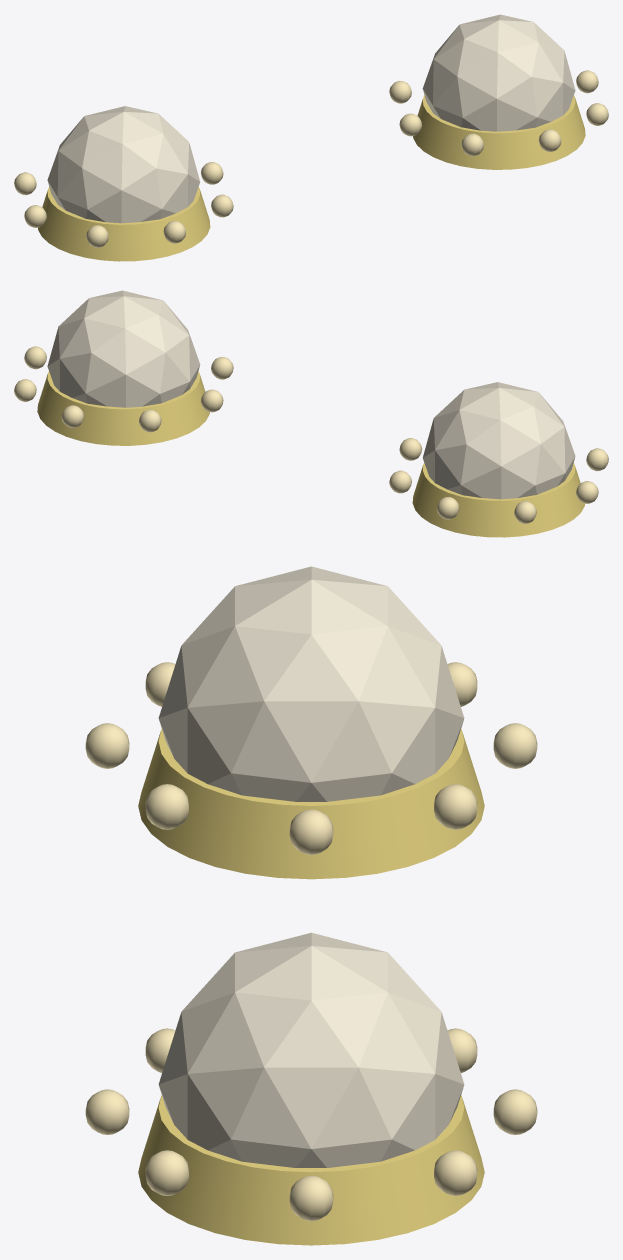
The model's file is noor-diamond-studs.glb.
3 renders of one model, top to bottom at view 1: azimuth 30°, elevation 25°; view 2: azimuth 150°, elevation 25°; view 3: azimuth 270°, elevation 25°, orthographic. The views are drawn at different scales.
Visible parts, largest first — view 1: noor-diamond-studs; view 2: noor-diamond-studs; view 3: noor-diamond-studs.
Part boxes in pixels (<box>): noor-diamond-studs: <box>14,14,608,261</box>; noor-diamond-studs: <box>14,290,608,537</box>; noor-diamond-studs: <box>85,566,537,1245</box>.
Bounding box in the file's own units: 3.4 × 0.7876 × 1.16.
